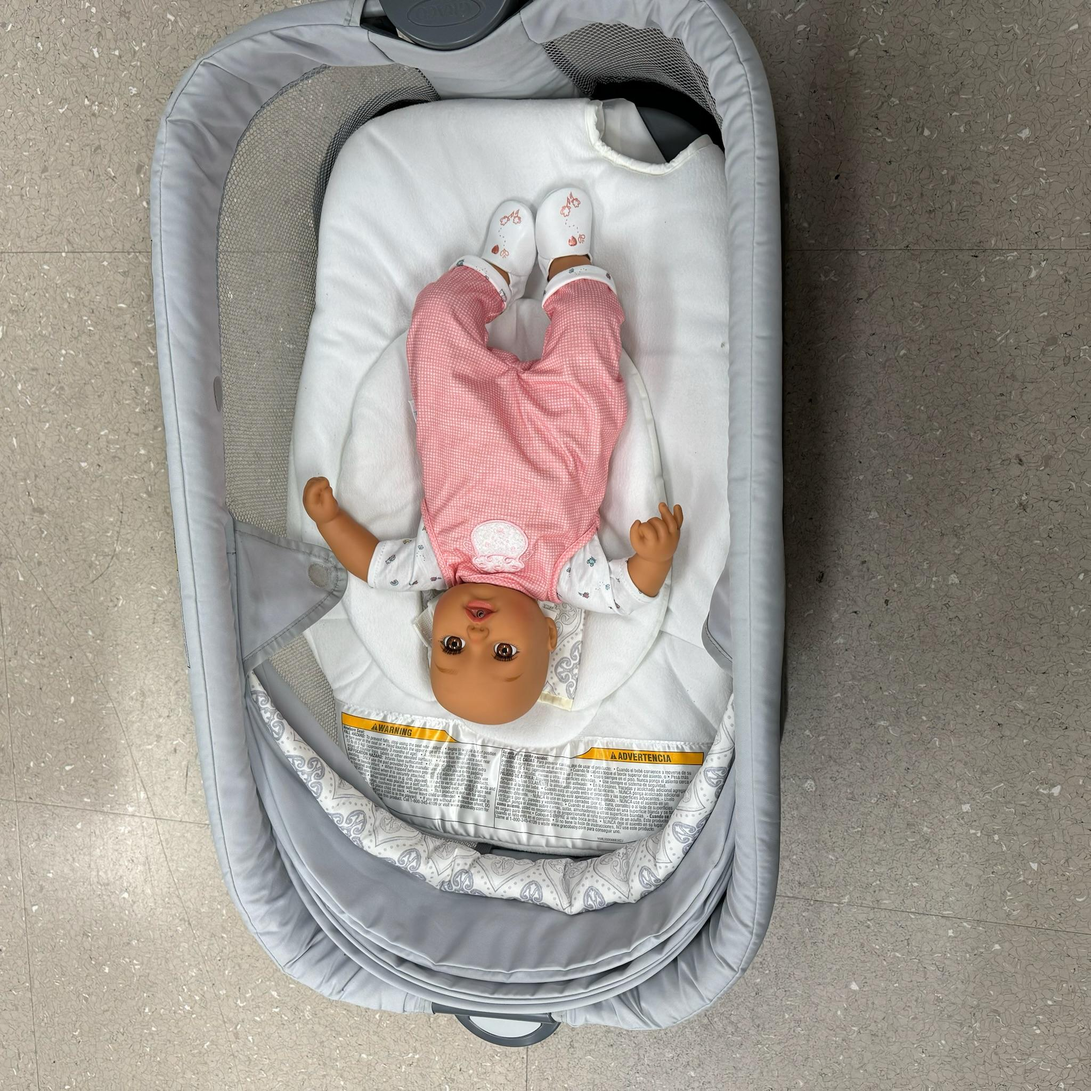baby: (301, 187, 686, 746)
